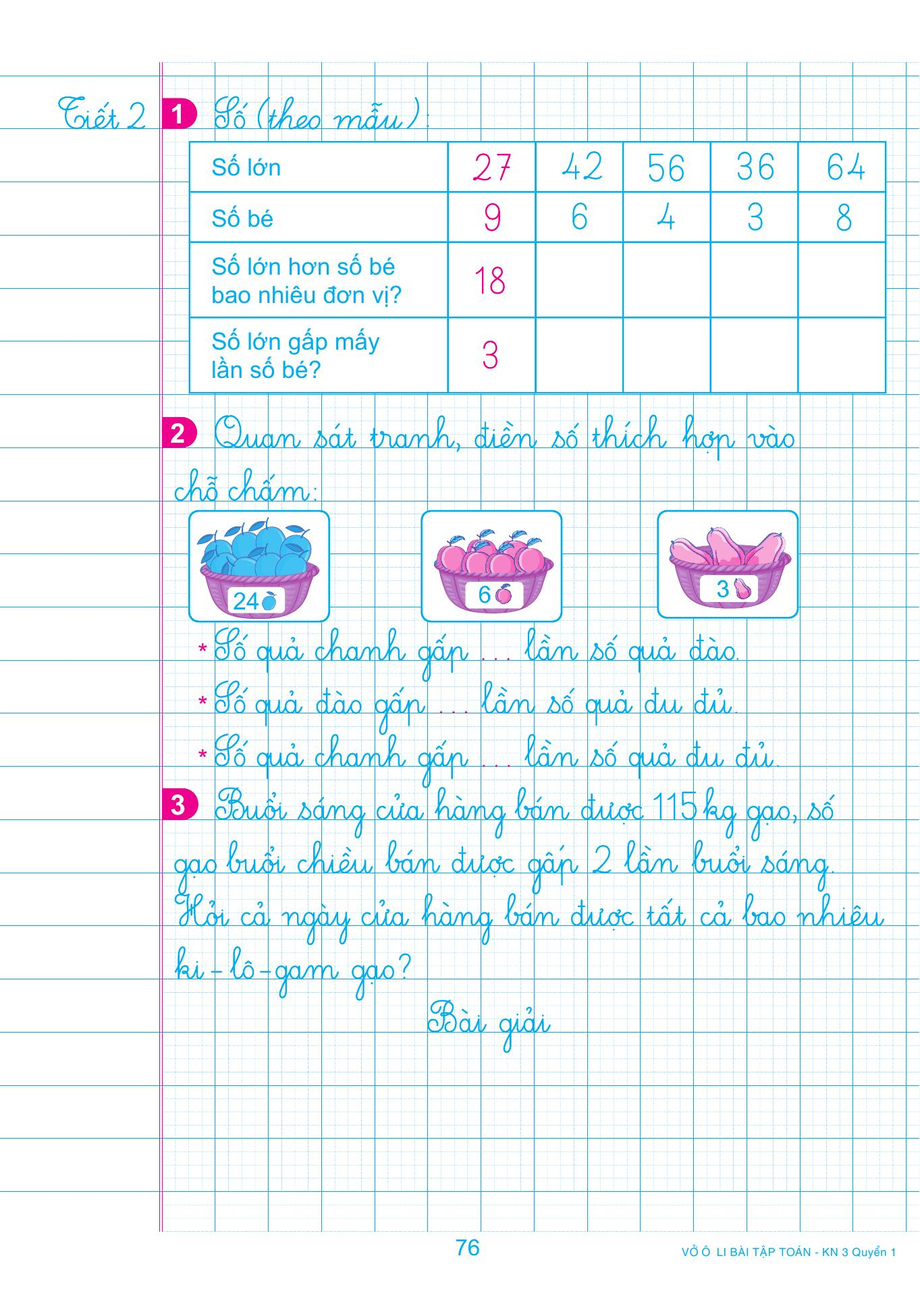Tự luận: (161, 780, 915, 1189)
Điền từ: (163, 407, 920, 787), (163, 71, 917, 403)
